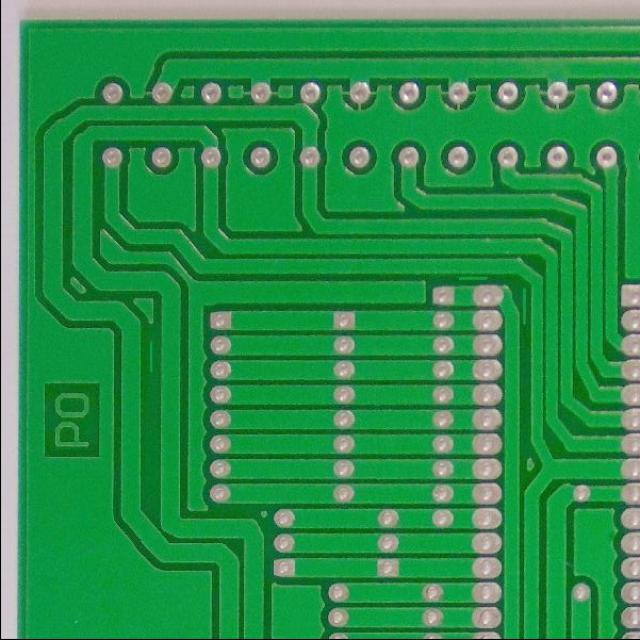Spurious_Cooper: (142, 335, 156, 375), (518, 284, 530, 328), (455, 271, 491, 282)
